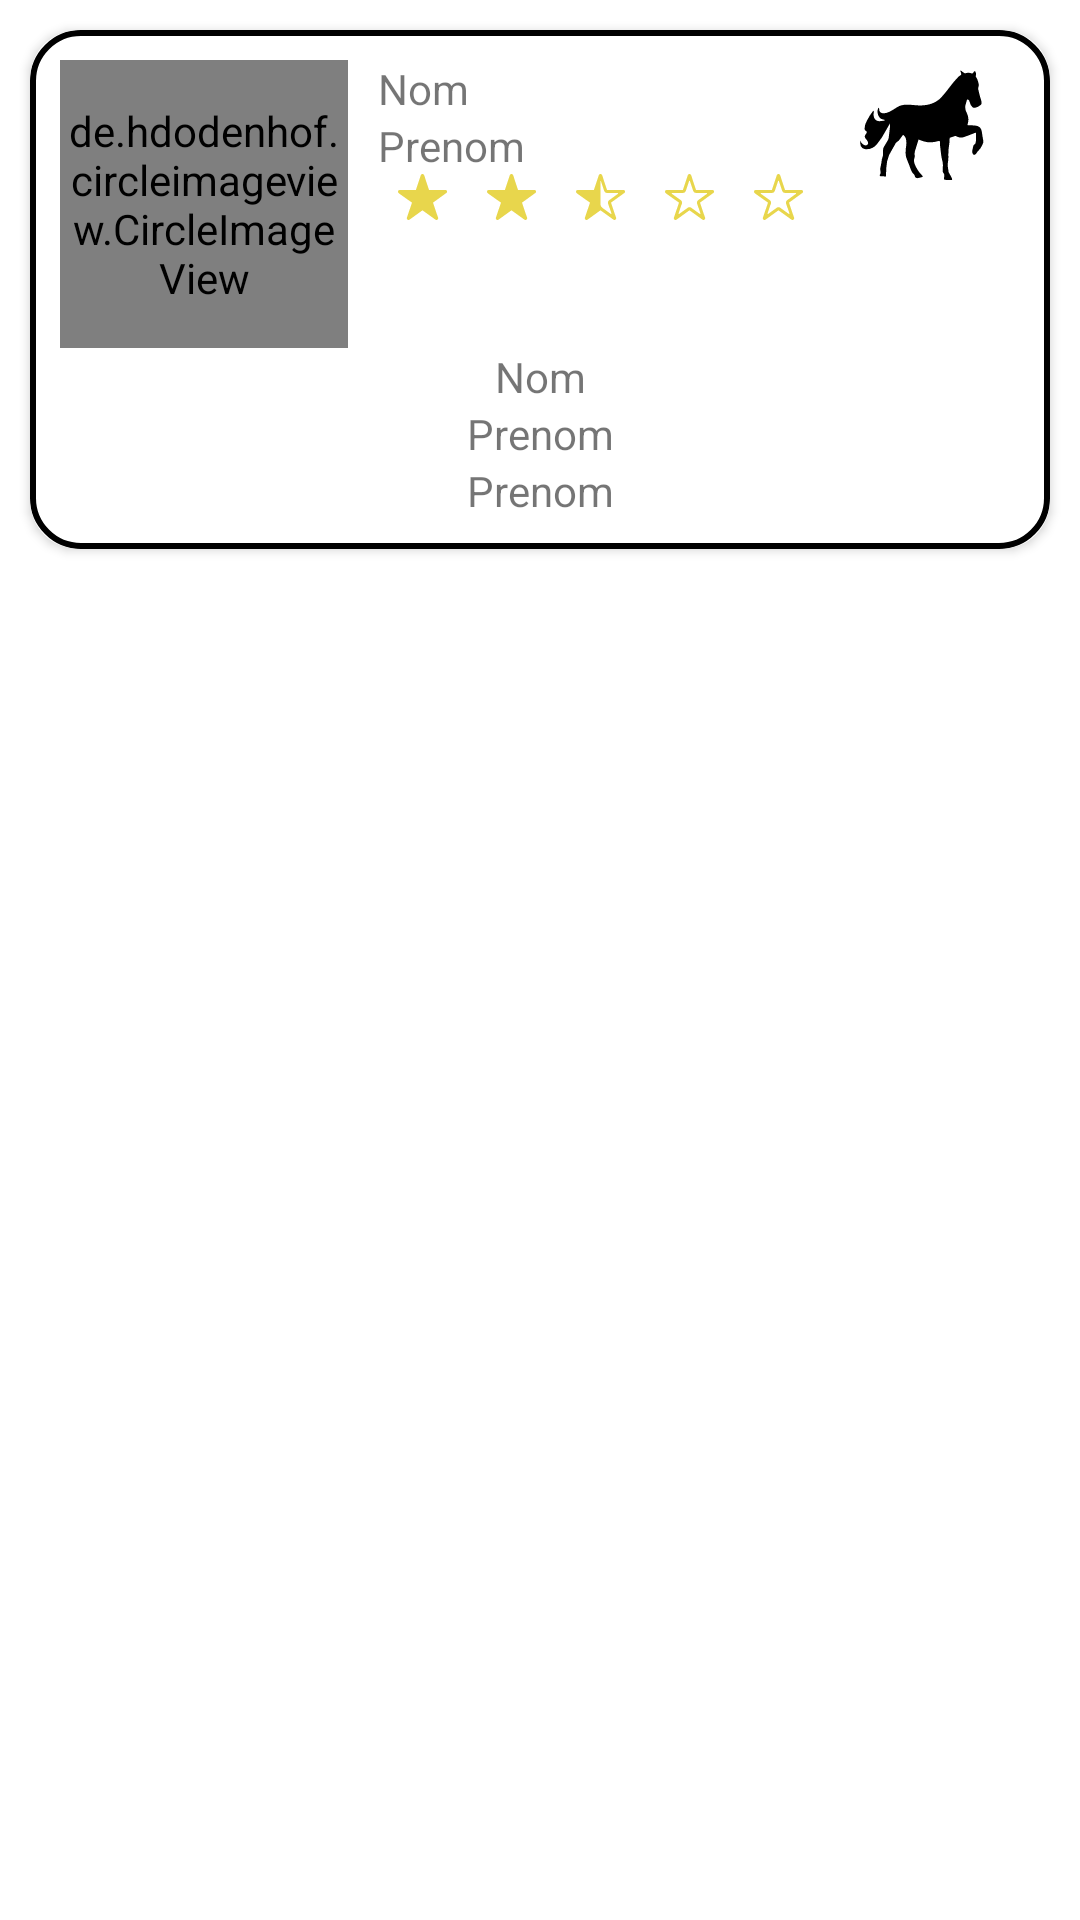

Locate icon controls on the screen. Image size 1080×1920, boxes as bbox(x1, y1, x2, y2).
starfull: bbox(398, 174, 447, 220), bbox(487, 174, 536, 220)
starhalf: bbox(576, 174, 625, 220)
